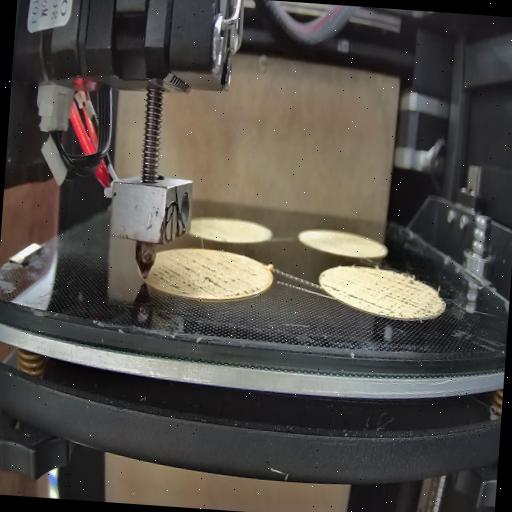under_extrusion: (148, 253, 262, 302), (340, 272, 442, 320), (324, 280, 342, 296)
